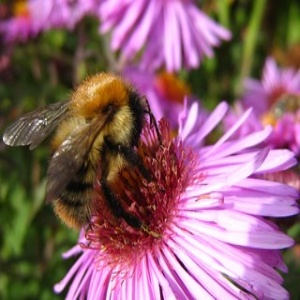bee: (3, 71, 158, 241)
